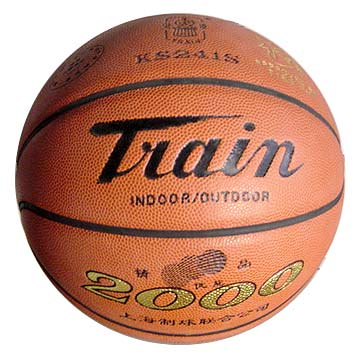basketball: (14, 13, 344, 344)
